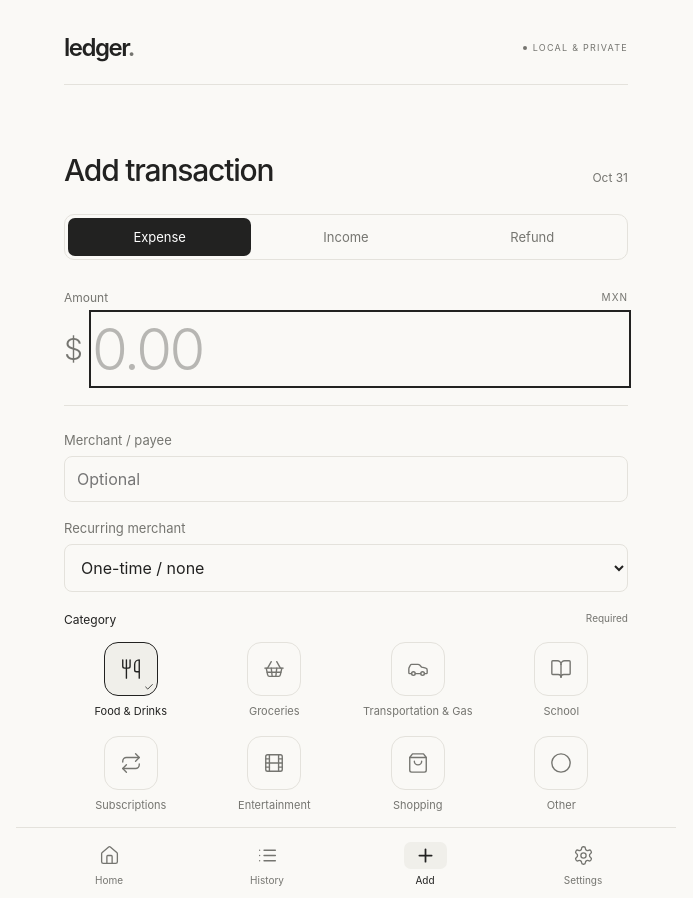
everyday entry and navigation › validates amount and separates income/refund category grids
Expected: the heading "Add transaction" is shown, [64,153,273,188]
In the field labelled "Amount": (360, 348) [92,312,628,384], type "1.234"
(page scrolled)
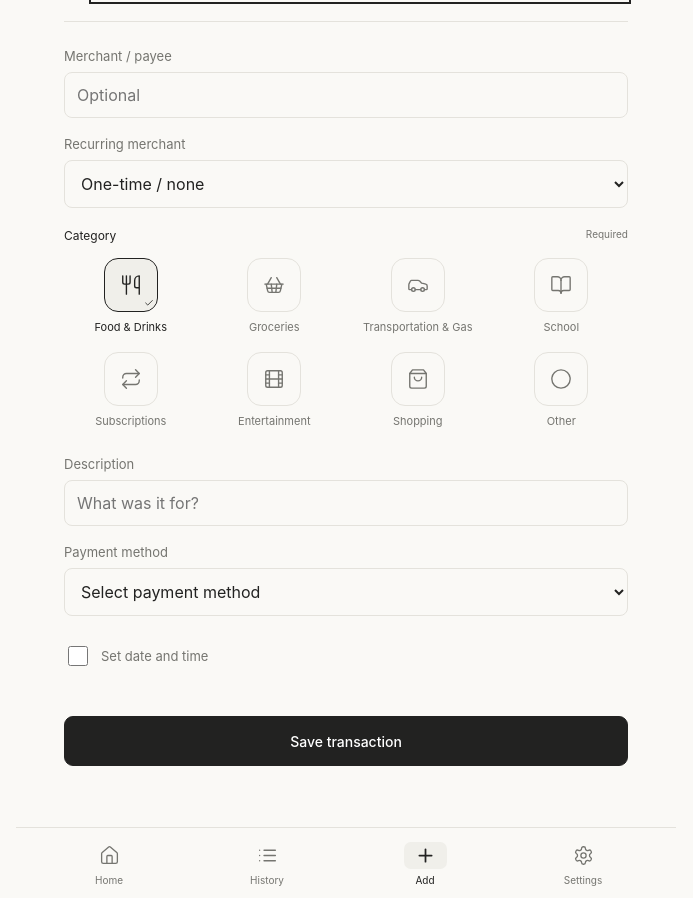
Select "Cash" in the dropdown labelled "Payment method": (346, 592) [64,568,628,616]
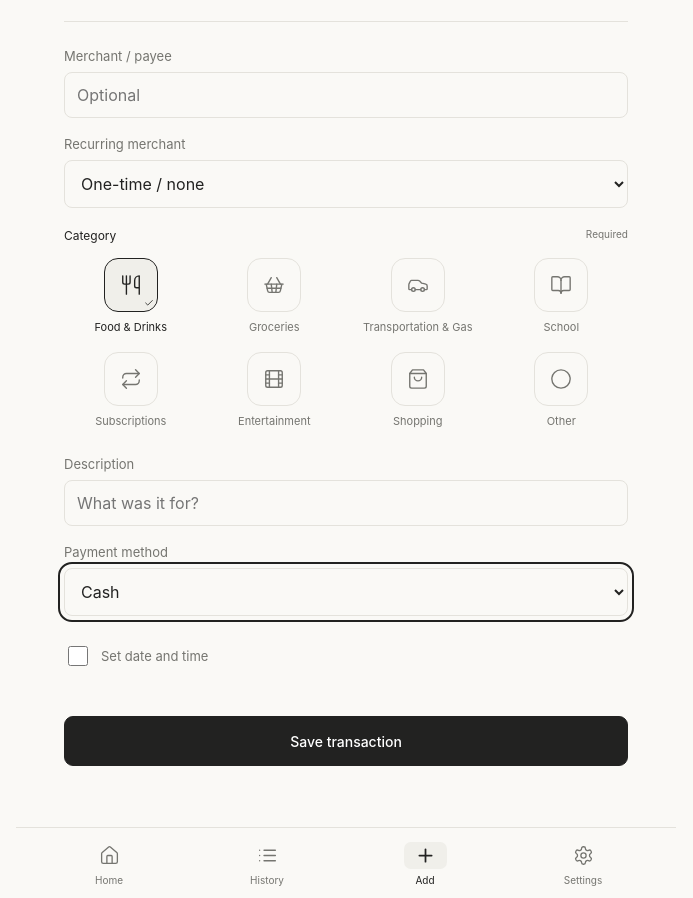
Click the button "Save transaction": click(346, 741) [64,716,628,766]
(page scrolled)
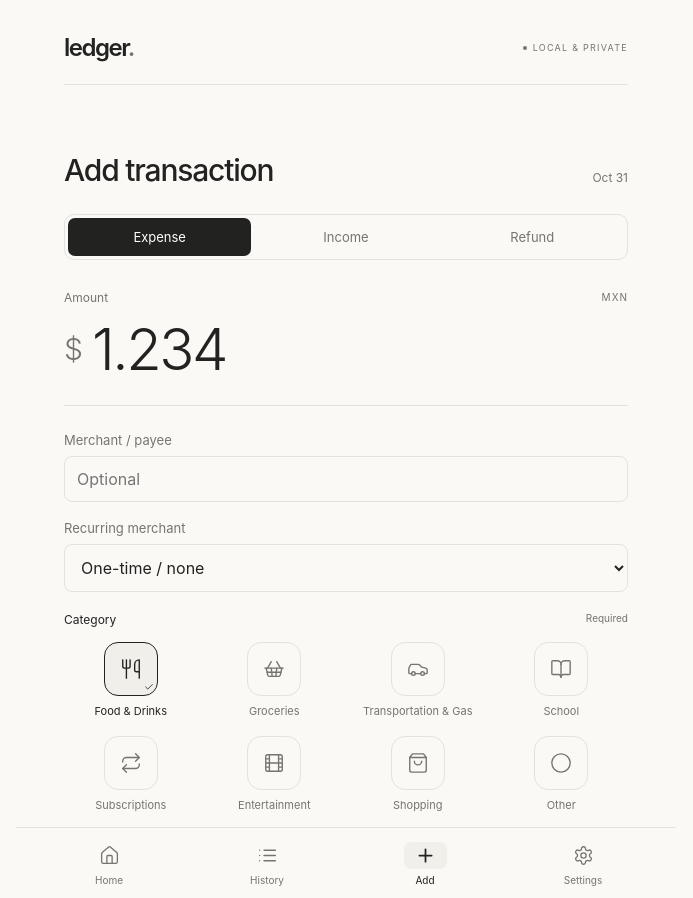
Click the button "Income": click(346, 236) [254,218,438,256]
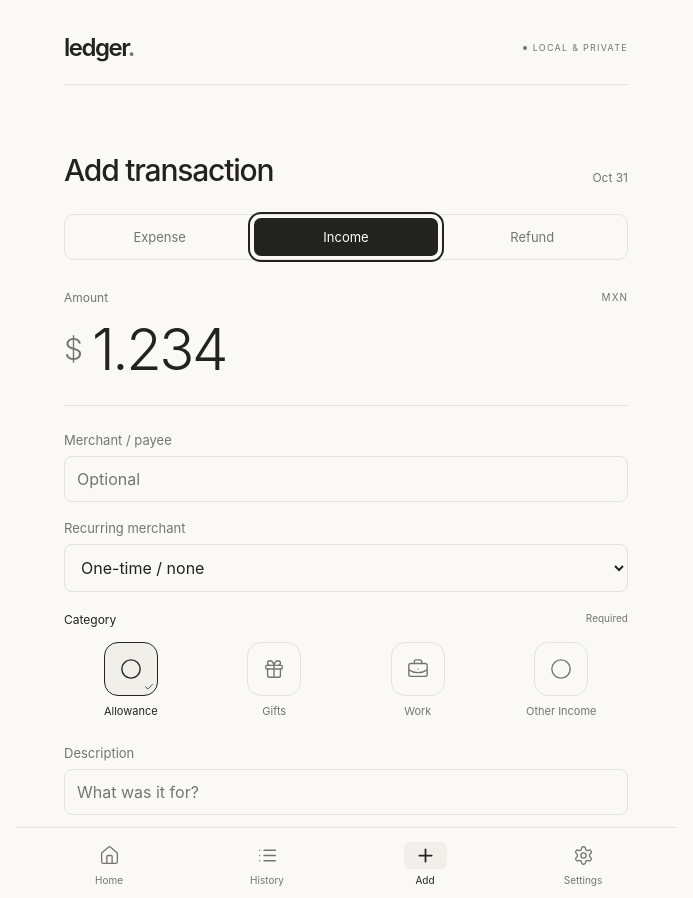
Expected: the button "Allowance" is shown, [64,642,198,718]
Expected: the button "Groceries" is gone
Click the button "Refund": click(532, 236) [441,218,624,256]
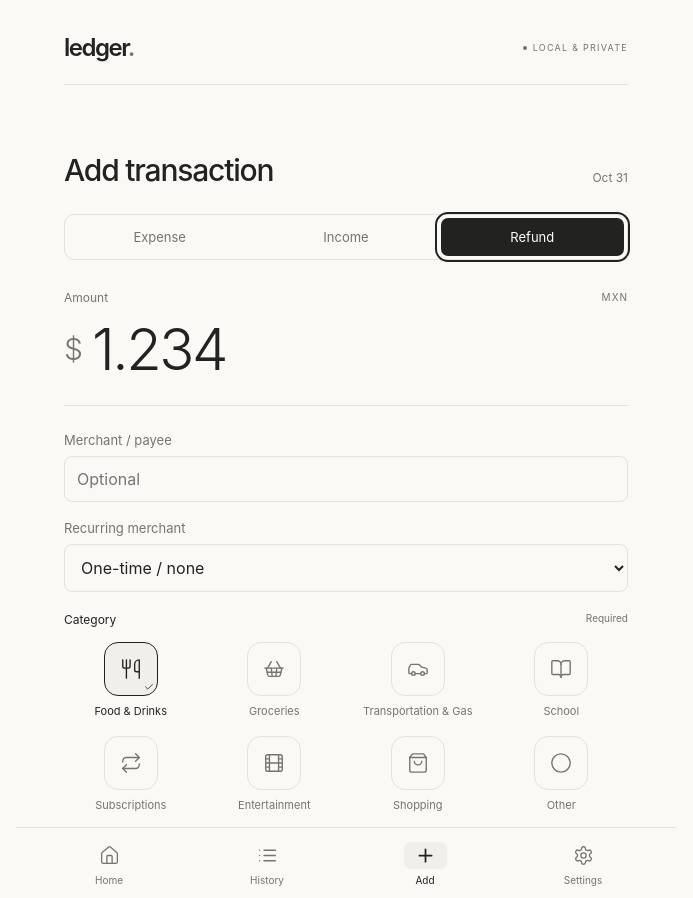
Expected: the button "Groceries" is shown, [208,642,341,718]
